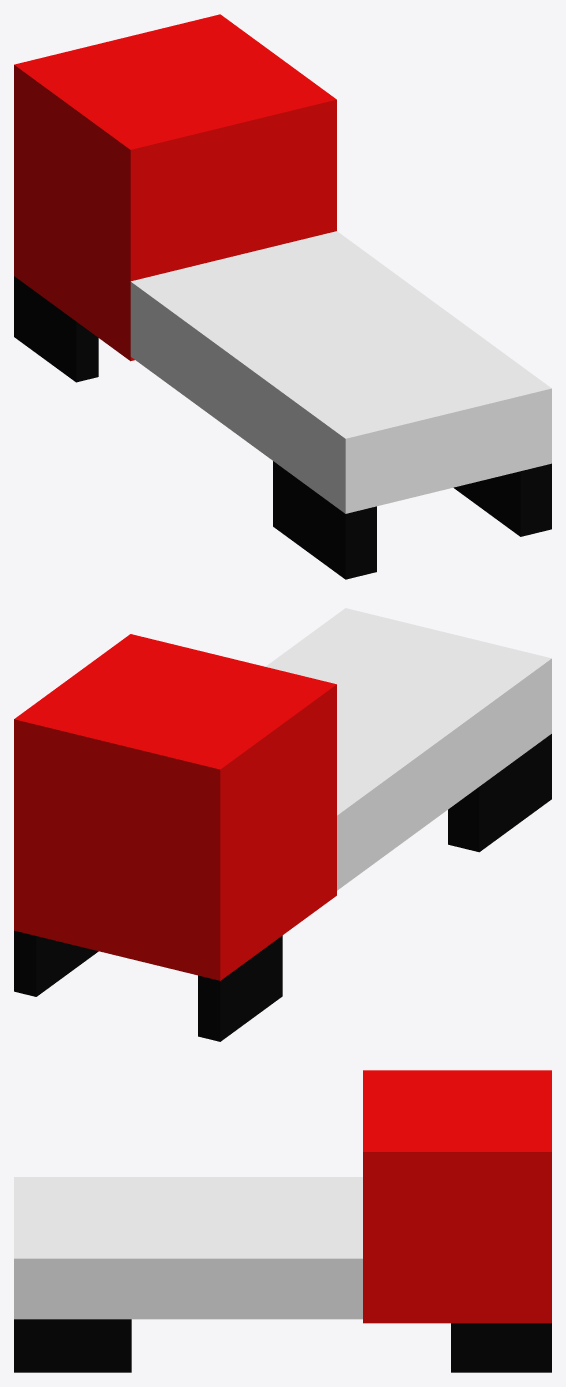
The model's file is truck.obj.
3 renders of one model, top to bottom at view 1: azimuth 30°, elevation 25°; view 2: azimuth 150°, elevation 25°; view 3: azimuth 270°, elevation 25°, orthographic. The views are drawn at different scales.
Bounding box in the file's own units: 4.6 × 5.8 × 12.8.
1 material, 1 textured.
